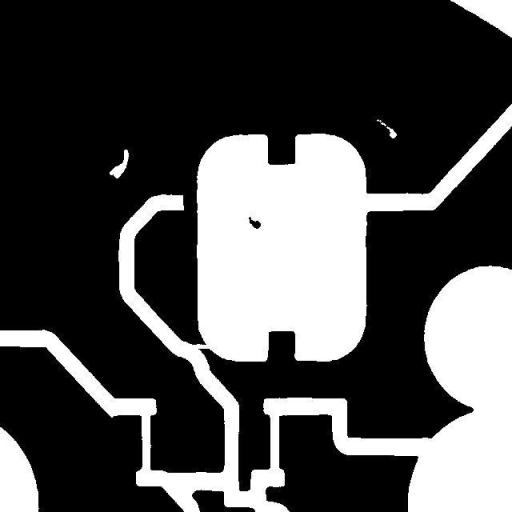copper: (241, 209, 268, 236)
open: (182, 336, 222, 356)
pin-hole: (102, 142, 135, 182), (369, 111, 404, 146)
short: (175, 174, 205, 222)
